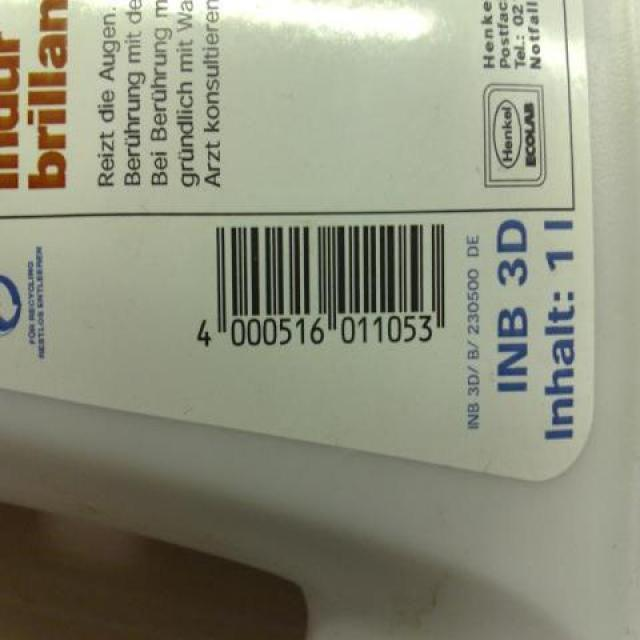Barcode: (186, 215, 457, 365)
